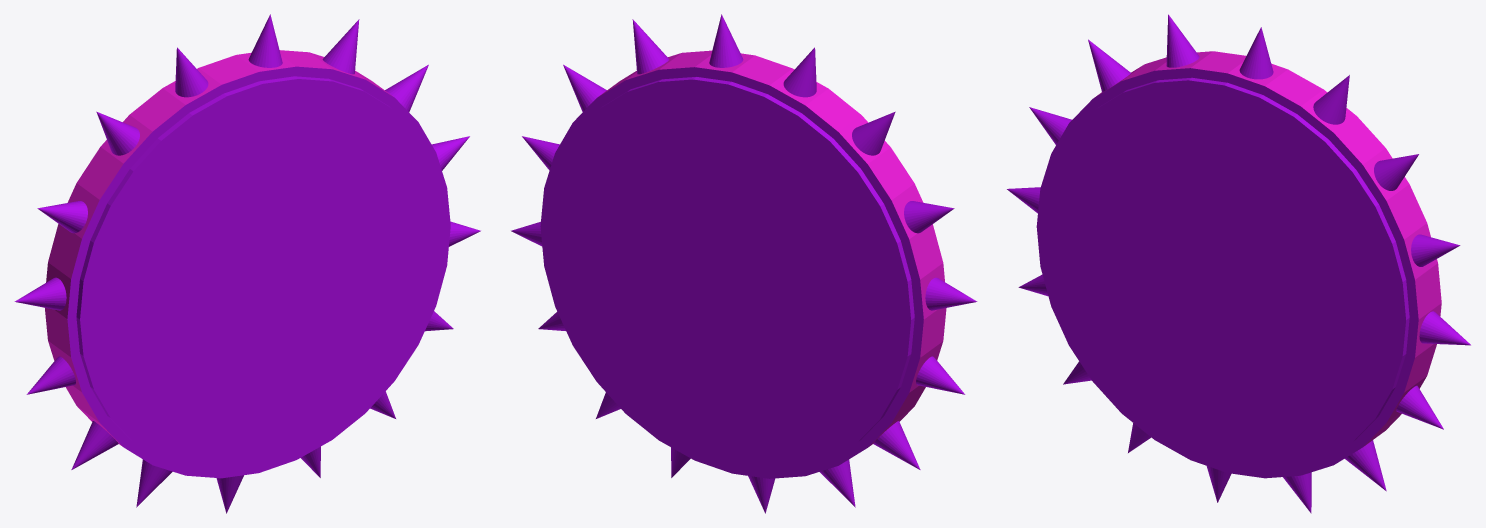
The model's file is spikyy obstacle.fbx.
3 views of the same model, side by side, from view 1: azimuth 30°, elevation 25°; view 2: azimuth 150°, elevation 25°; view 3: azimuth 330°, elevation 25° (orthographic).
Visible parts, largest first — view 1: Cylinder, Cone.002, Cone.003, Cone.005, Cone.004, Cone, Cone.001, Cone.014, Cone.015, Cone.006, Cone.013, Cone.007 (+1 smaller); view 2: Cylinder, Cone.002, Cone.003, Cone.005, Cone.004, Cone, Cone.001, Cone.014, Cone.015, Cone.006, Cone.013, Cone.007; view 3: Cylinder, Cone.005, Cone.004, Cone.008, Cone.003, Cone.006, Cone.002, Cone.007, Cone.009, Cone.010, Cone.001, Cone.011.
Part boxes in pixels (x1,y1,x2,y2): Cylinder: (45, 50, 450, 478); Cone.002: (96, 111, 139, 155); Cone.003: (175, 47, 208, 97); Cone.005: (322, 19, 359, 74); Cone.004: (248, 14, 282, 67); Cone: (14, 277, 66, 310); Cone.001: (37, 201, 87, 233); Cone.014: (71, 421, 118, 469); Cone.015: (26, 356, 75, 394); Cone.006: (385, 64, 428, 112); Cone.013: (136, 459, 172, 507); Cone.007: (431, 136, 469, 170); Cylinder: (540, 50, 946, 478); Cone.002: (852, 111, 895, 155); Cone.003: (783, 47, 816, 97); Cone.005: (632, 19, 669, 74); Cone.004: (709, 14, 743, 67); Cone: (925, 277, 977, 310); Cone.001: (904, 201, 954, 233); Cone.014: (873, 421, 920, 469); Cone.015: (916, 356, 965, 394); Cone.006: (563, 64, 606, 111); Cone.013: (820, 459, 855, 507); Cone.007: (522, 136, 559, 170); Cylinder: (1036, 51, 1441, 478); Cone.005: (1313, 75, 1349, 124); Cone.004: (1239, 27, 1273, 79); Cone.008: (1419, 311, 1470, 345); Cone.003: (1166, 14, 1199, 67); Cone.006: (1374, 154, 1418, 190); Cone.002: (1088, 39, 1130, 92); Cone.007: (1411, 234, 1460, 266); Cone.009: (1396, 385, 1443, 429); Cone.010: (1345, 440, 1386, 491); Cone.001: (1029, 107, 1071, 144); Cone.011: (1283, 472, 1311, 513).
Bounding box in the file's own units: 244 × 244 × 27.44.
